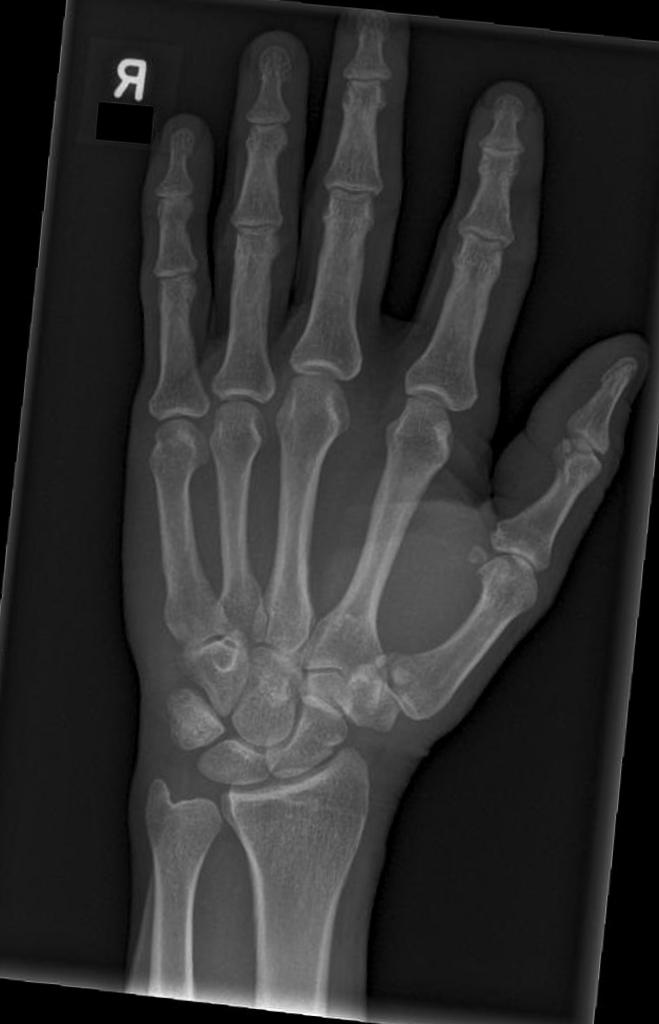fracture: (360, 642, 424, 702), (552, 434, 586, 477), (216, 631, 245, 654)
